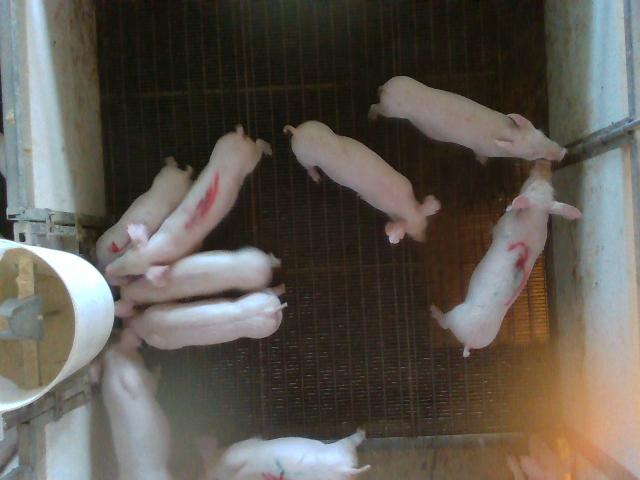pig-1: (106, 125, 271, 285)
pig-3: (431, 161, 581, 356)
pig-5: (98, 158, 192, 272)
